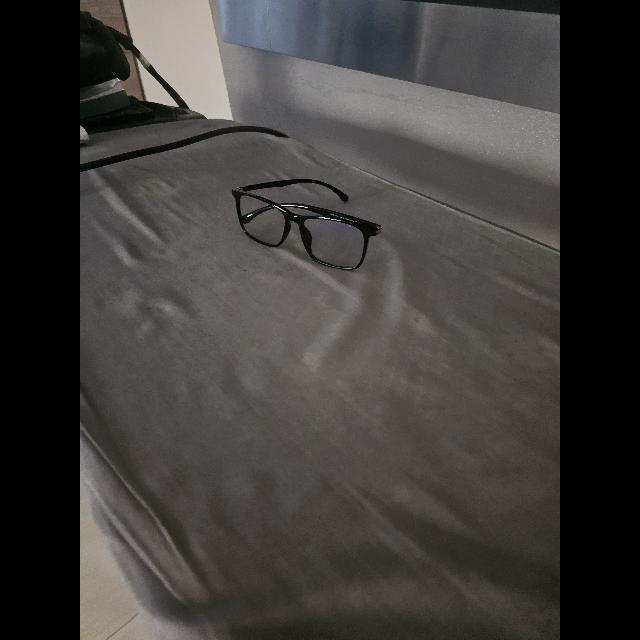glasses: (232, 178, 382, 270)
